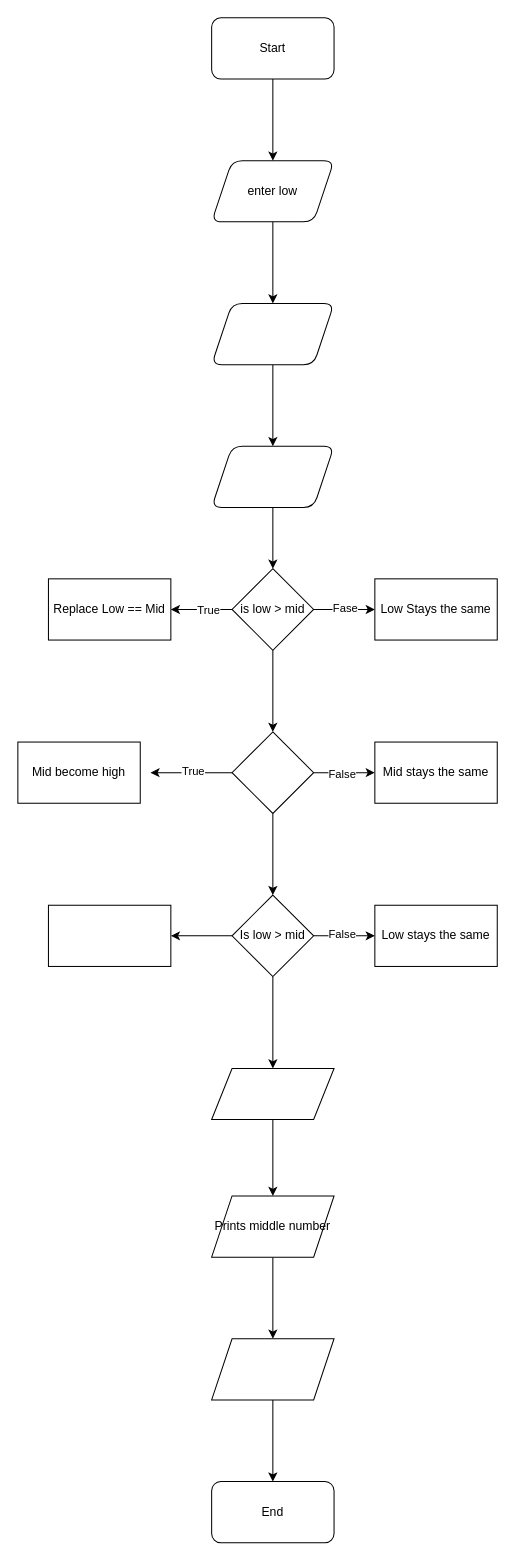
Image size: 515x1561. Some labels were removed from this diagram. Each missing label, with the centre of its shape:
Enter High: (272,476)
Enter mid: (272,333)
Is mid > high: (272,772)
Low becomes mid: (109,935)
Prints highest number: (272,1369)
Prints lowest number: (272,1093)
